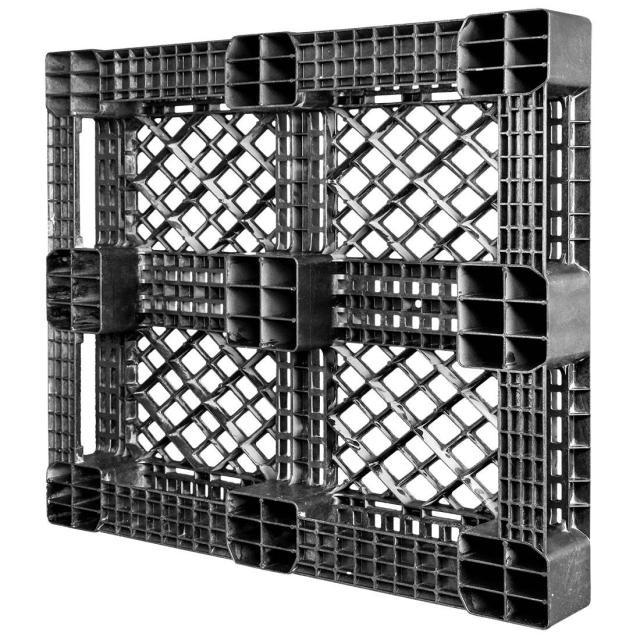non-igps: (28, 0, 614, 636)
